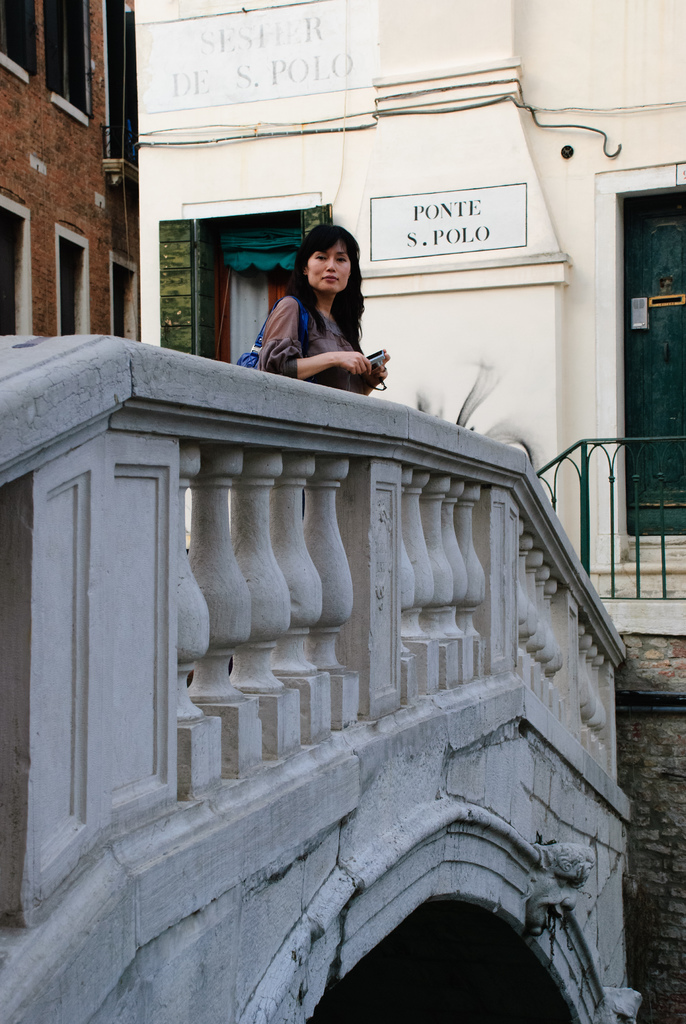Human_hand: (332, 352, 373, 380), (365, 353, 389, 388)
